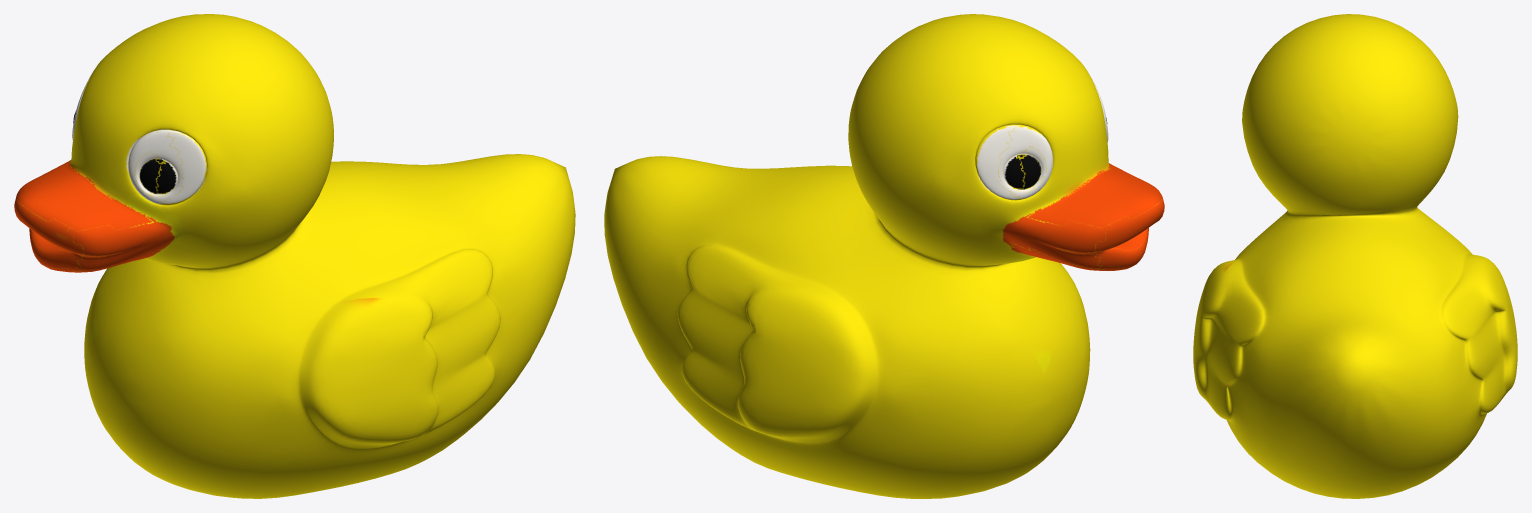
Rendered from rubberDuck.fbx.
The picture shows the model from 3 angles, left to right: view 1: azimuth 30°, elevation 25°; view 2: azimuth 150°, elevation 25°; view 3: azimuth 270°, elevation 25°; orthographic projection. The views are drawn at different scales.
Visible parts, largest first — view 1: rubber_duck; view 2: rubber_duck; view 3: rubber_duck.
Part boxes in pixels (x1,y1,x2,y2): rubber_duck: (14, 14, 575, 498); rubber_duck: (604, 14, 1164, 498); rubber_duck: (1193, 14, 1517, 498).
Bounding box in the file's own units: 0.1245 × 0.1012 × 0.0753.
Materials: 1 (1 with a texture image).
